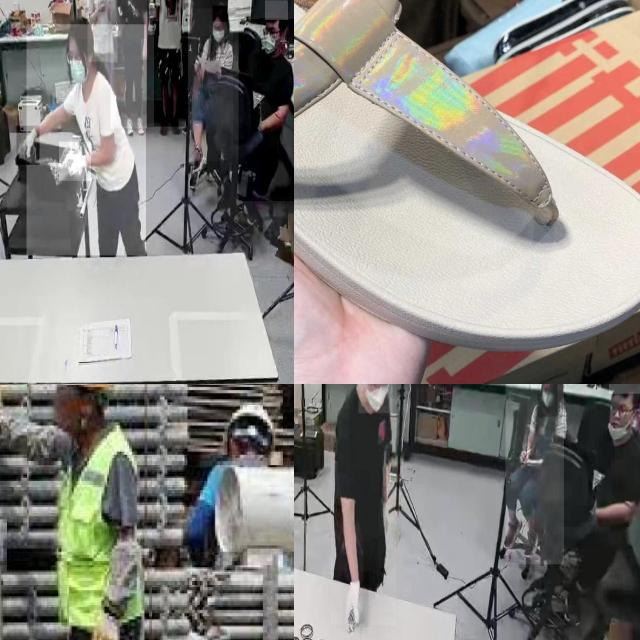Sandals: (294, 0, 640, 352)
face_mask: (358, 384, 392, 413), (260, 18, 282, 61), (66, 50, 88, 88), (538, 384, 558, 417), (213, 22, 225, 48)
face_nomask: (610, 399, 628, 436)
glasses: (609, 400, 631, 421)
hand_glove: (342, 572, 370, 634), (59, 142, 91, 182), (16, 126, 40, 166), (378, 501, 394, 537)
hand_noglove: (141, 38, 148, 61), (152, 21, 160, 37), (98, 1, 106, 13)
head_nohelmet: (67, 16, 93, 40), (265, 0, 289, 21), (609, 384, 640, 394), (213, 5, 229, 22)
person: (27, 25, 146, 256), (331, 384, 396, 625), (505, 384, 564, 565), (238, 19, 294, 202), (190, 8, 233, 162), (110, 0, 154, 129), (147, 0, 188, 127), (87, 0, 117, 62)
shoes: (168, 111, 184, 138), (157, 112, 169, 139), (122, 116, 136, 137), (136, 112, 146, 137)
